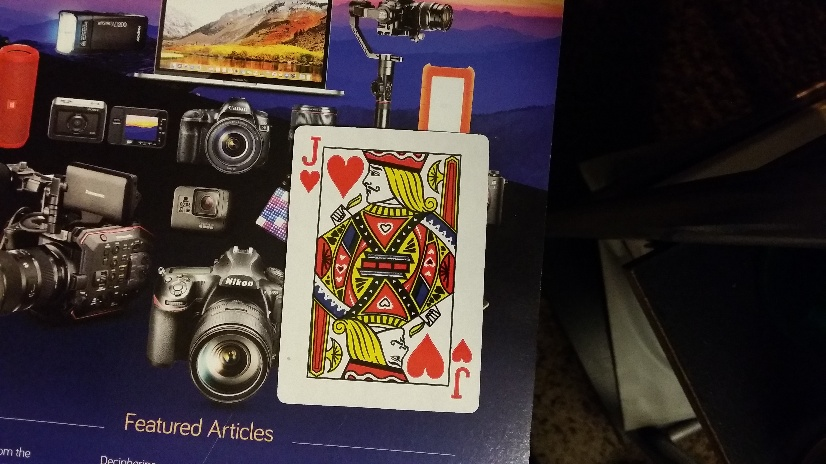Hj: (451, 335, 473, 405), (301, 134, 323, 193)
